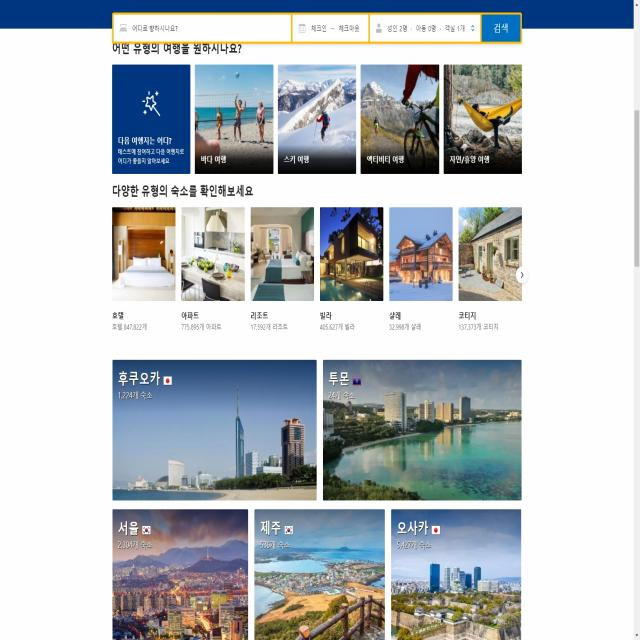search: (111, 8, 523, 44)
